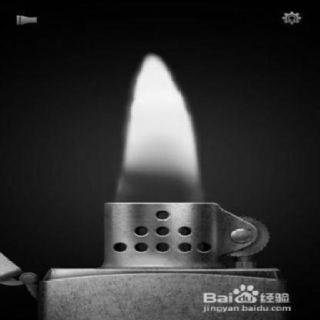Fire: (97, 40, 231, 219)
